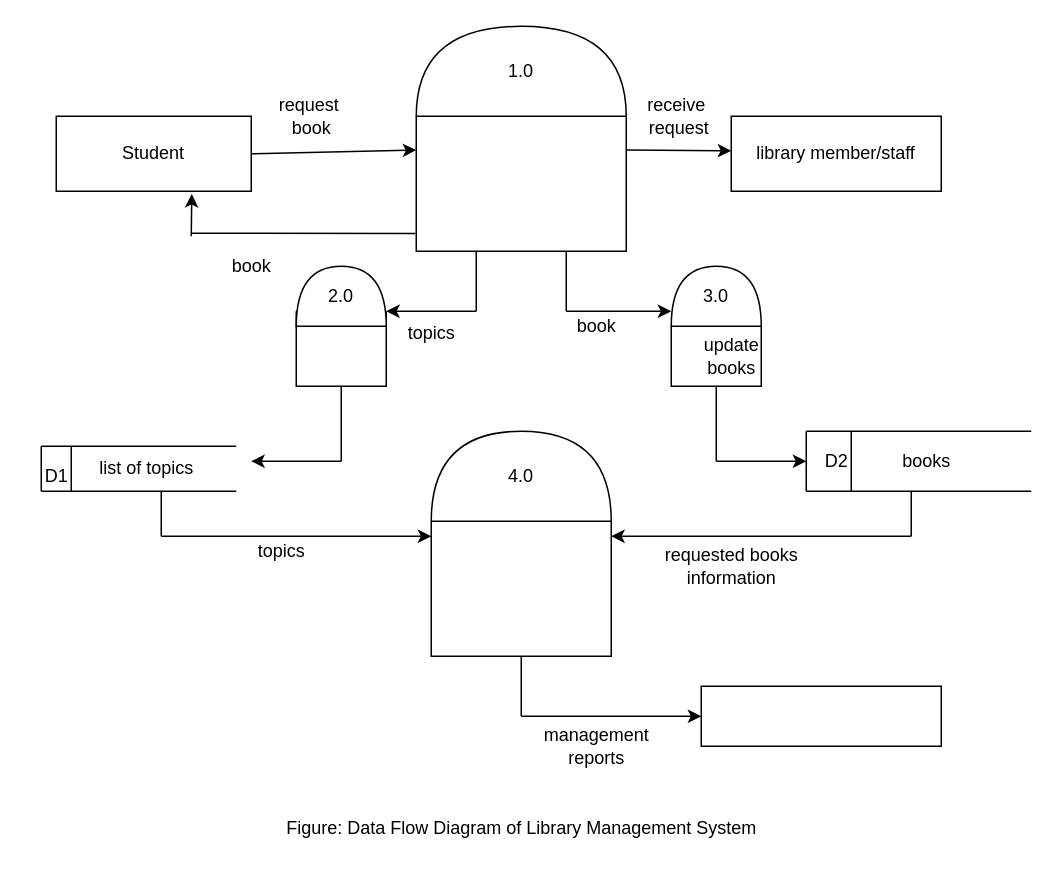
Some shapes in this 1059 by 878 pixel diagram are drawn without their labels. Here are the shapes that lost their labels. From the top down, the centre of each, then its label:
At (x=520, y=183): "receive and transform book request".
At (x=340, y=348): "topics search".
At (x=520, y=588): "produce management report".
At (x=820, y=715): "Library Catalog".
